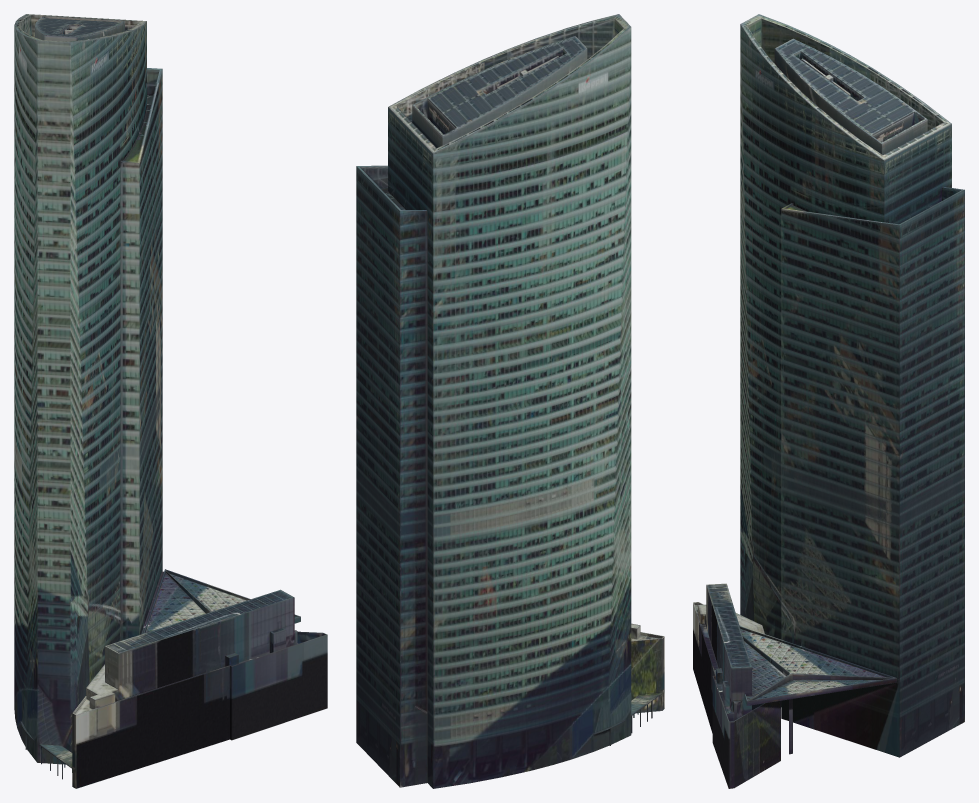
The picture shows the model from 3 angles, left to right: view 1: azimuth 30°, elevation 25°; view 2: azimuth 150°, elevation 25°; view 3: azimuth 270°, elevation 25°; orthographic projection. The views are drawn at different scales.
Parts seen in each view (by area): view 1: 9_0.glb; view 2: 9_0.glb; view 3: 9_0.glb.
Boxes of the visible parts, left/top/right/bottom form: 9_0.glb: left=14, top=14, right=327, bottom=788; 9_0.glb: left=356, top=14, right=664, bottom=788; 9_0.glb: left=693, top=14, right=964, bottom=788.
Bounding box in the file's own units: 96.06 × 242 × 91.28.
2 materials, 2 textured.
